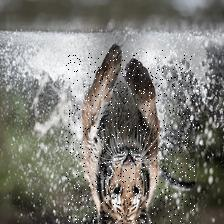tiger: (66, 50, 195, 224)
